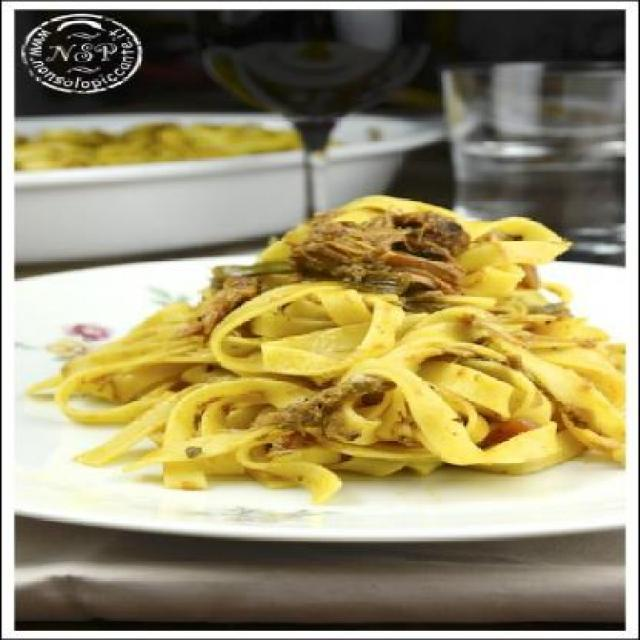Pasta al ragu: (52, 158, 628, 520)
